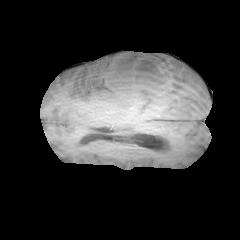glioma: (97, 55, 182, 108)
